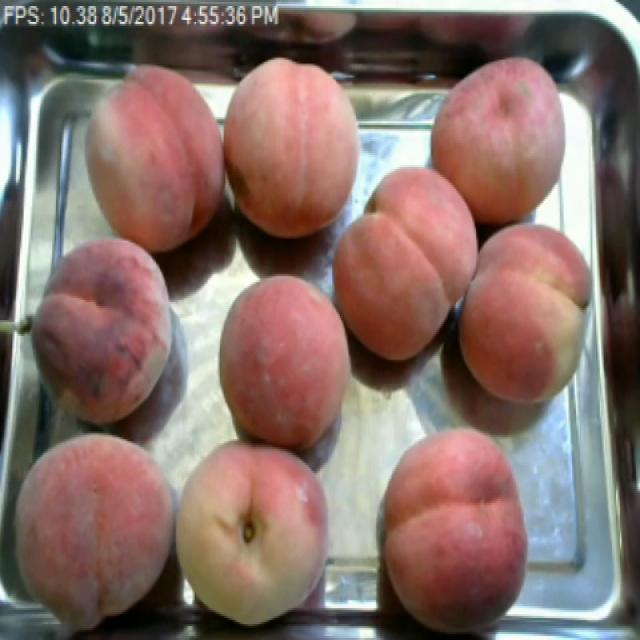Fruit: (1, 413, 180, 640), (18, 225, 190, 447), (369, 419, 542, 638), (324, 153, 491, 374), (172, 425, 344, 636), (441, 209, 611, 415), (204, 266, 368, 465), (221, 46, 375, 248), (75, 56, 228, 258), (422, 44, 582, 232)
